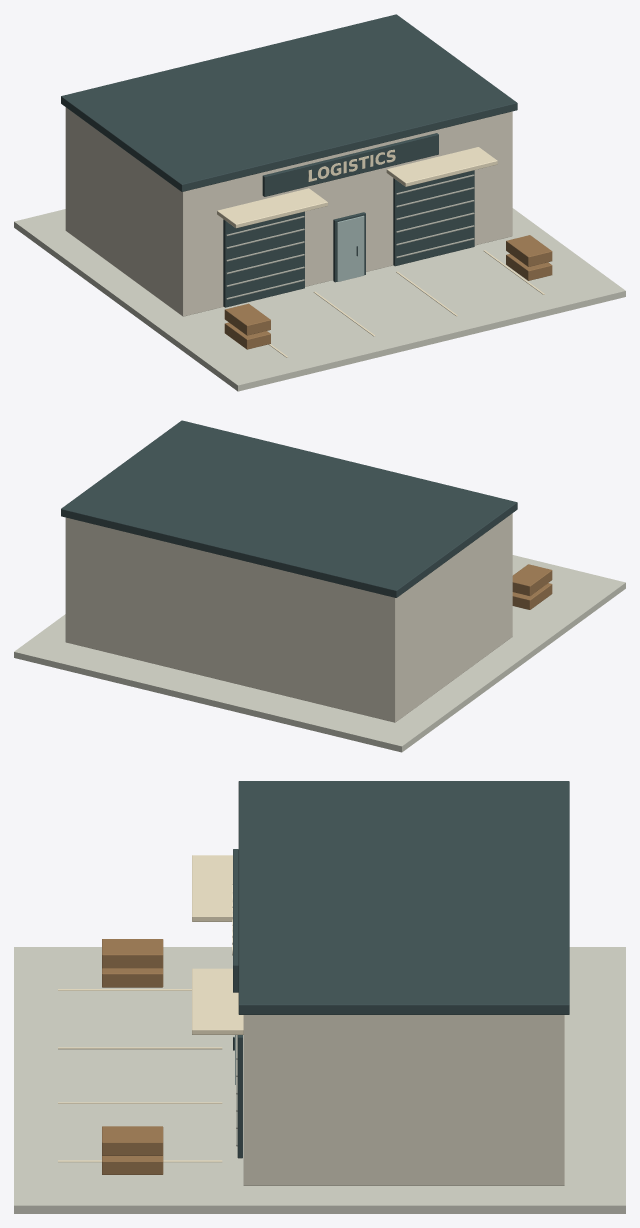
The model's file is small-4x4-logistics-01.glb.
3 renders of one model, top to bottom at view 1: azimuth 30°, elevation 25°; view 2: azimuth 150°, elevation 25°; view 3: azimuth 270°, elevation 25°, orthographic. The views are drawn at different scales.
Visible parts, largest first — view 1: HallRoof, LotPlinth, IndustrialHall, LoadingShutter, LoadingShutter.001, IndustrialSignBacking, DockCanopy.001, DockCanopy, EntranceGlass, FreightPallet.003, FreightPallet.001, Sign_LOGISTICS (+3 smaller); view 2: IndustrialHall, HallRoof, LotPlinth, FreightPallet.001, FreightPallet; view 3: HallRoof, LotPlinth, IndustrialHall, DockCanopy.001, DockCanopy, FreightPallet.001, FreightPallet.003, FreightPallet, FreightPallet.002, IndustrialSignBacking, LoadingShutter.001.
Boxes of the visible parts, x1,y1,x2,y2 form: HallRoof: (61,14,517,191); LotPlinth: (14,208,625,391); IndustrialHall: (65,107,512,316); LoadingShutter: (223,211,304,307); LoadingShutter.001: (393,170,474,266); IndustrialSignBacking: (262,133,438,196); DockCanopy.001: (386,147,497,186); DockCanopy: (217,188,327,228); EntranceGlass: (337,215,364,281); FreightPallet.003: (506,235,552,266); FreightPallet.001: (224,303,270,335); Sign_LOGISTICS: (308,149,395,181); IndustrialHall: (65,513,512,722); HallRoof: (61,420,517,597); LotPlinth: (14,555,625,752); FreightPallet.001: (512,564,552,595); FreightPallet: (512,583,552,609); HallRoof: (238,781,569,1014); LotPlinth: (14,947,625,1213); IndustrialHall: (243,1015,564,1185); DockCanopy.001: (192,968,243,1034); DockCanopy: (192,855,232,921); FreightPallet.001: (102,939,163,968); FreightPallet.003: (102,1126,163,1155); FreightPallet: (102,968,163,987); FreightPallet.002: (102,1155,163,1174); IndustrialSignBacking: (233,849,238,992); LoadingShutter.001: (237,1035,242,1158).
Size of the model in its own units: 16 by 5.53 by 16.
